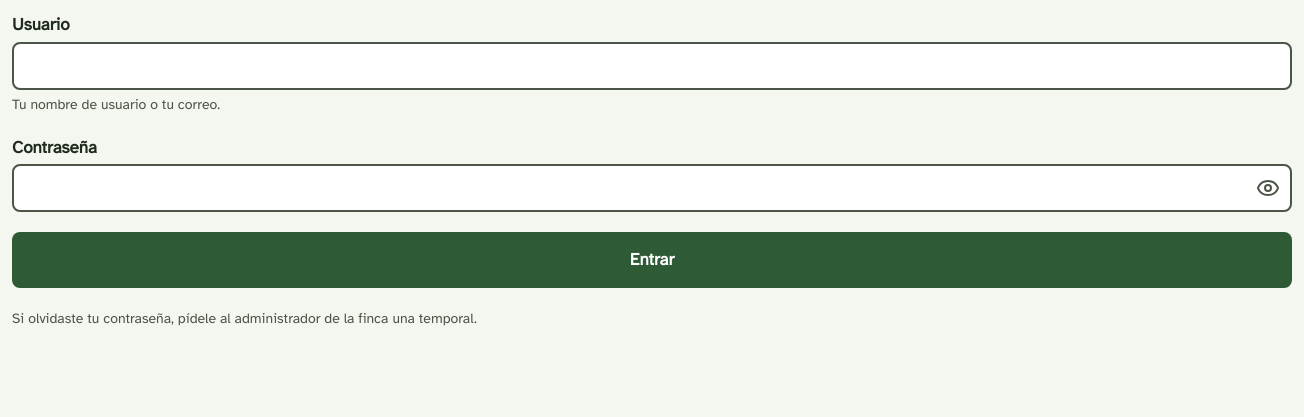
LoginForm › ante AUTH_ACCOUNT_LOCKED (423) muestra «La cuenta está bloqueada por intentos fallidos. Intenta de nuevo en 15 minutos.»
Type "alvaro" into the field labelled "Usuario" at (652, 66), box [12,42,1292,90]
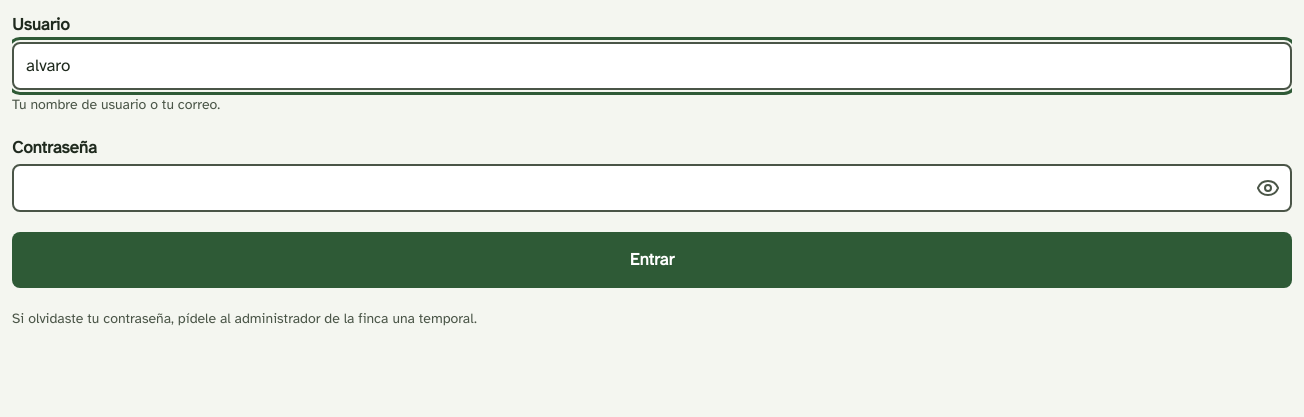
Type "clave-secreta" into the password field labelled "Contraseña" at (652, 188), box [12,164,1292,212]
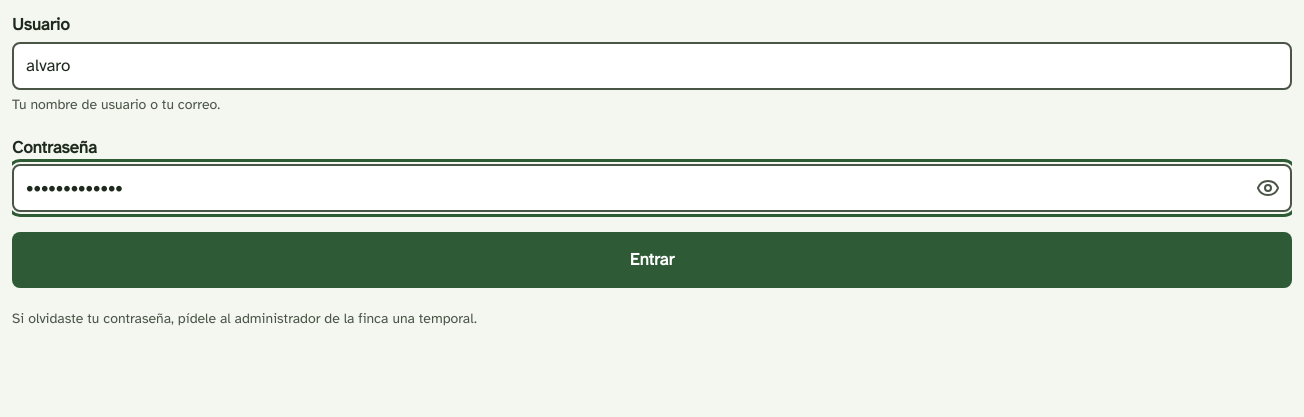
Click the button "Entrar" at (652, 260), box [12,232,1292,288]
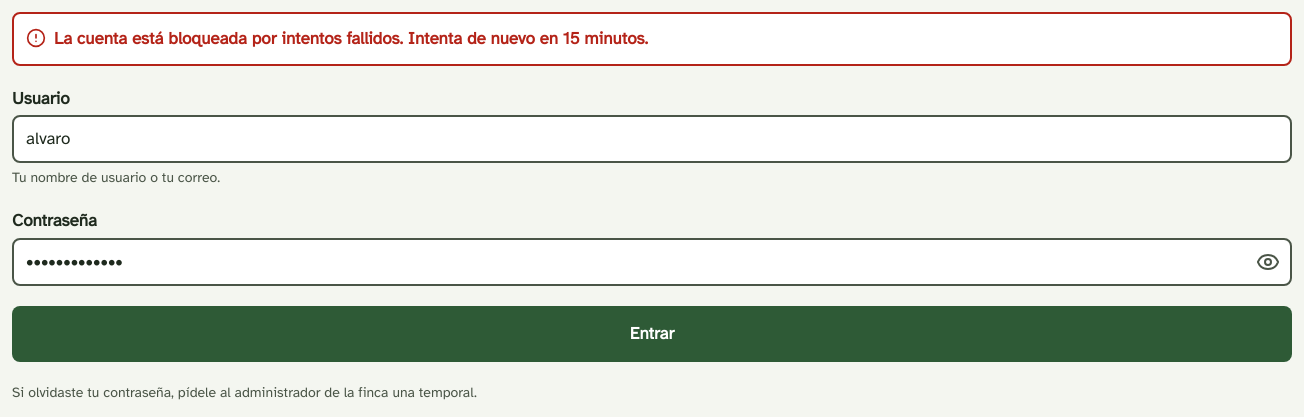
Now the message reads "La cuenta está bloqueada por intentos fallidos. Intenta de nuevo en 15 minutos.", box [54,28,648,49]
